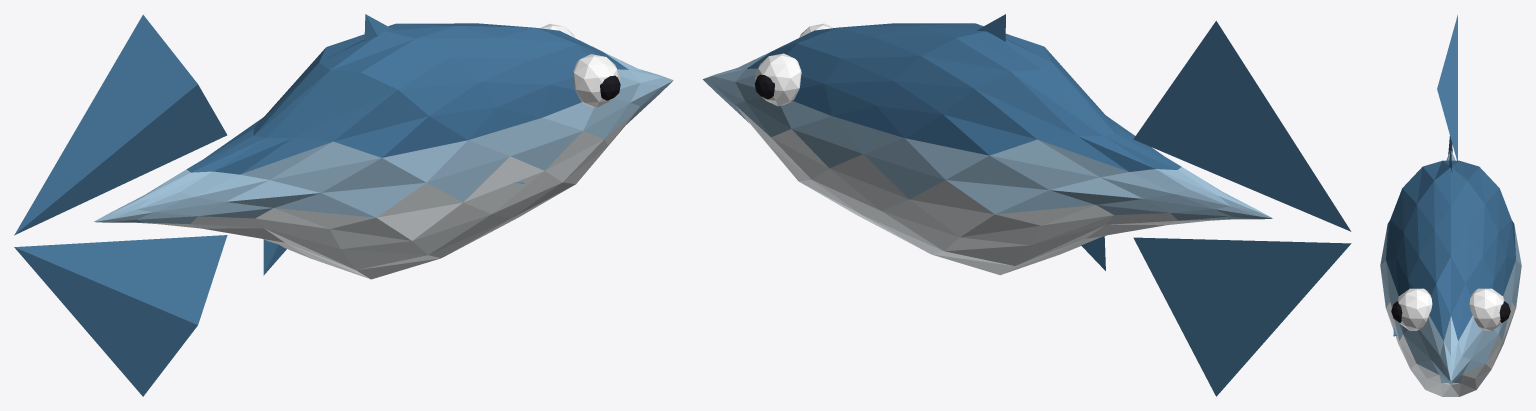
File: fish.glb
The picture shows the model from 3 angles, left to right: view 1: azimuth 30°, elevation 25°; view 2: azimuth 150°, elevation 25°; view 3: azimuth 270°, elevation 25°; orthographic projection. The views are drawn at different scales.
Parts seen in each view (by area): view 1: fish; view 2: fish; view 3: fish.
Part boxes in pixels (x1,y1,x2,y2): fish: (14, 14, 673, 396); fish: (702, 14, 1351, 396); fish: (1380, 15, 1521, 396).
Bounding box in the file's own units: 1.62 × 0.8975 × 0.3663.
